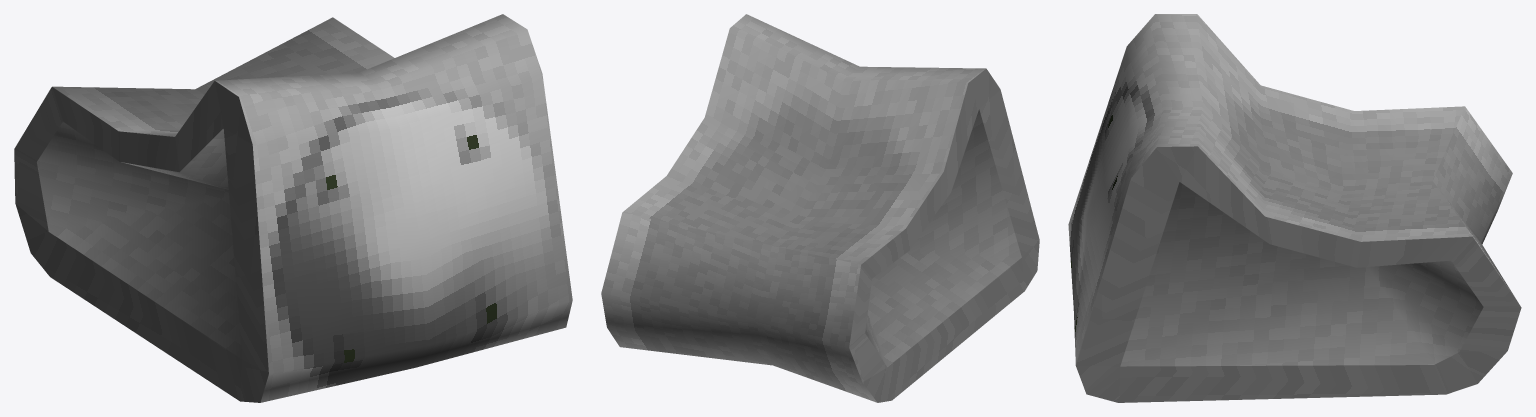
The model's file is ElbowPad_Ground_L.fbx.
3 views of the same model, side by side, from view 1: azimuth 30°, elevation 25°; view 2: azimuth 150°, elevation 25°; view 3: azimuth 270°, elevation 25° (orthographic). The views are drawn at different scales.
Visible parts, largest first — view 1: ElbowPad_Ground_L; view 2: ElbowPad_Ground_L; view 3: ElbowPad_Ground_L.
Part boxes in pixels (x1,y1,x2,y2): ElbowPad_Ground_L: (14,14,572,402); ElbowPad_Ground_L: (601,14,1039,402); ElbowPad_Ground_L: (1068,14,1521,402).
Size of the model in its own units: 0.6107 by 0.5061 by 0.7961.
